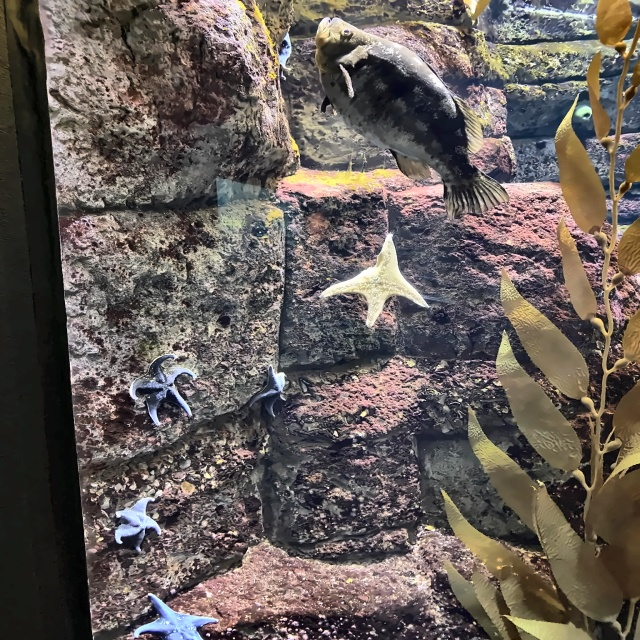fish: (314, 16, 511, 217)
starfish: (321, 234, 432, 326), (128, 352, 200, 427), (129, 593, 215, 639), (112, 496, 163, 551), (251, 366, 289, 420)
